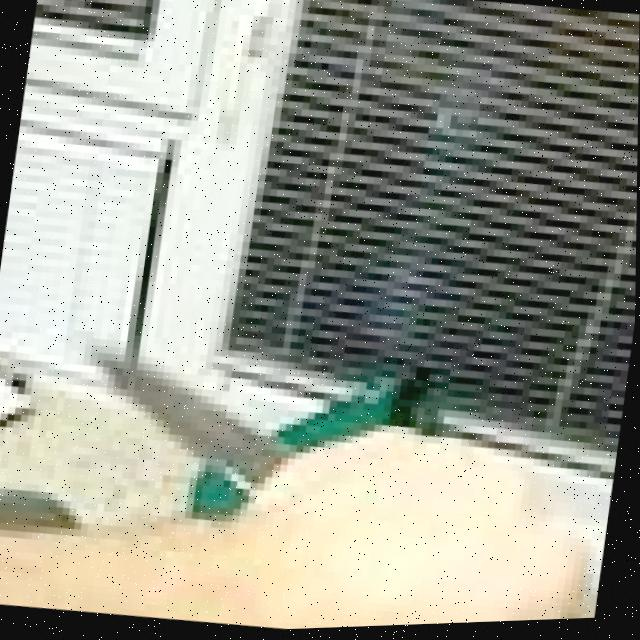knife: (77, 292, 300, 511)
